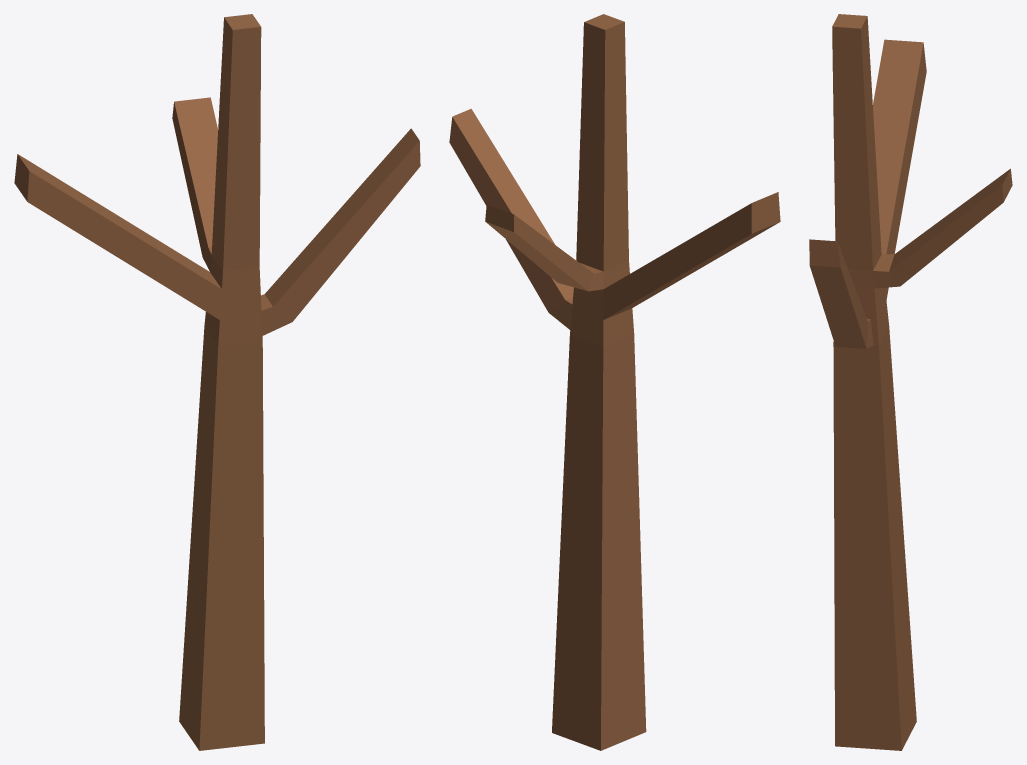
File: tree-dead-trunk-1-033.glb
3 renders of one model, left to right at view 1: azimuth 30°, elevation 25°; view 2: azimuth 150°, elevation 25°; view 3: azimuth 270°, elevation 25°, orthographic. The views are drawn at different scales.
Parts seen in each view (by area): view 1: TREE 1.006_496; view 2: TREE 1.006_496; view 3: TREE 1.006_496.
Part boxes in pixels (box(x1,y1,x2,y2)): TREE 1.006_496: box(14, 14, 420, 750); TREE 1.006_496: box(449, 14, 780, 750); TREE 1.006_496: box(809, 14, 1012, 750).
Bounding box in the file's own units: 0.5046 × 0.9595 × 0.246.
